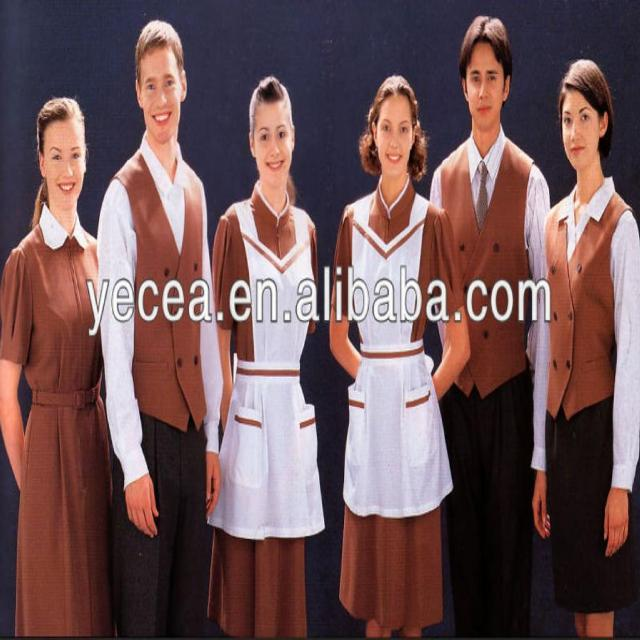Face: (137, 43, 190, 142), (37, 111, 85, 215), (368, 83, 419, 173), (242, 98, 297, 179), (561, 91, 603, 170), (468, 44, 503, 131)
